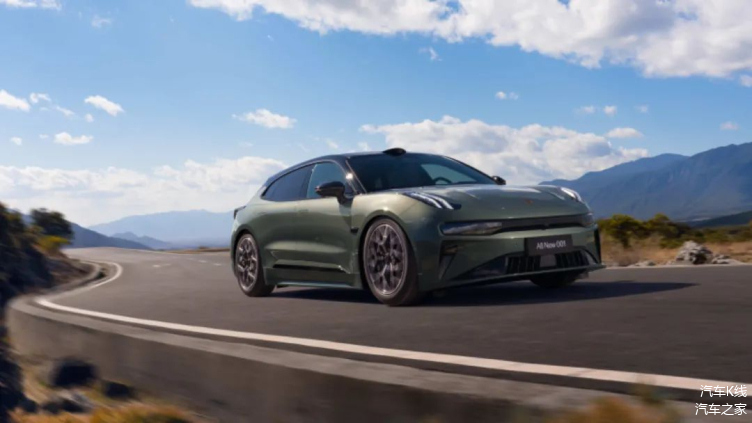other: (213, 143, 606, 302)
